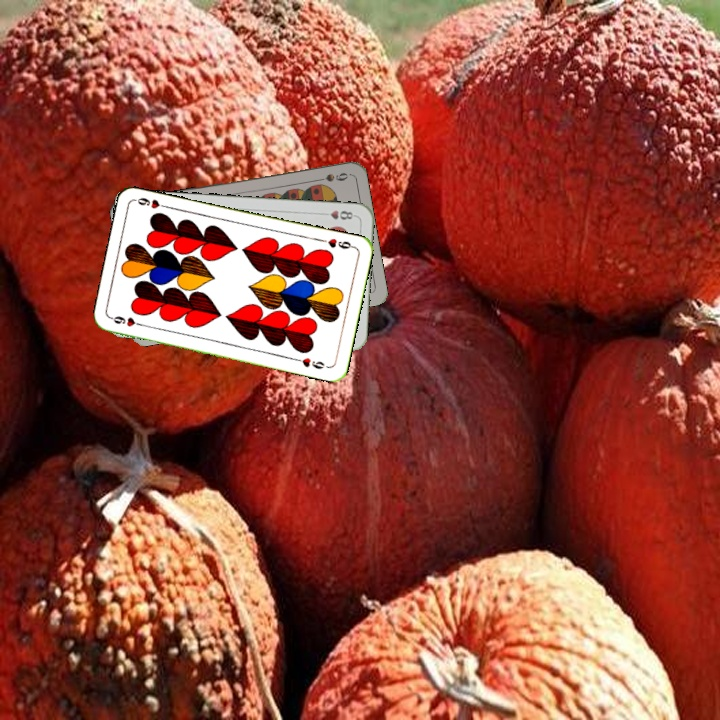H8: (318, 206, 358, 222)
H9: (317, 234, 357, 252), (107, 312, 147, 329)
S9: (310, 168, 351, 184)
